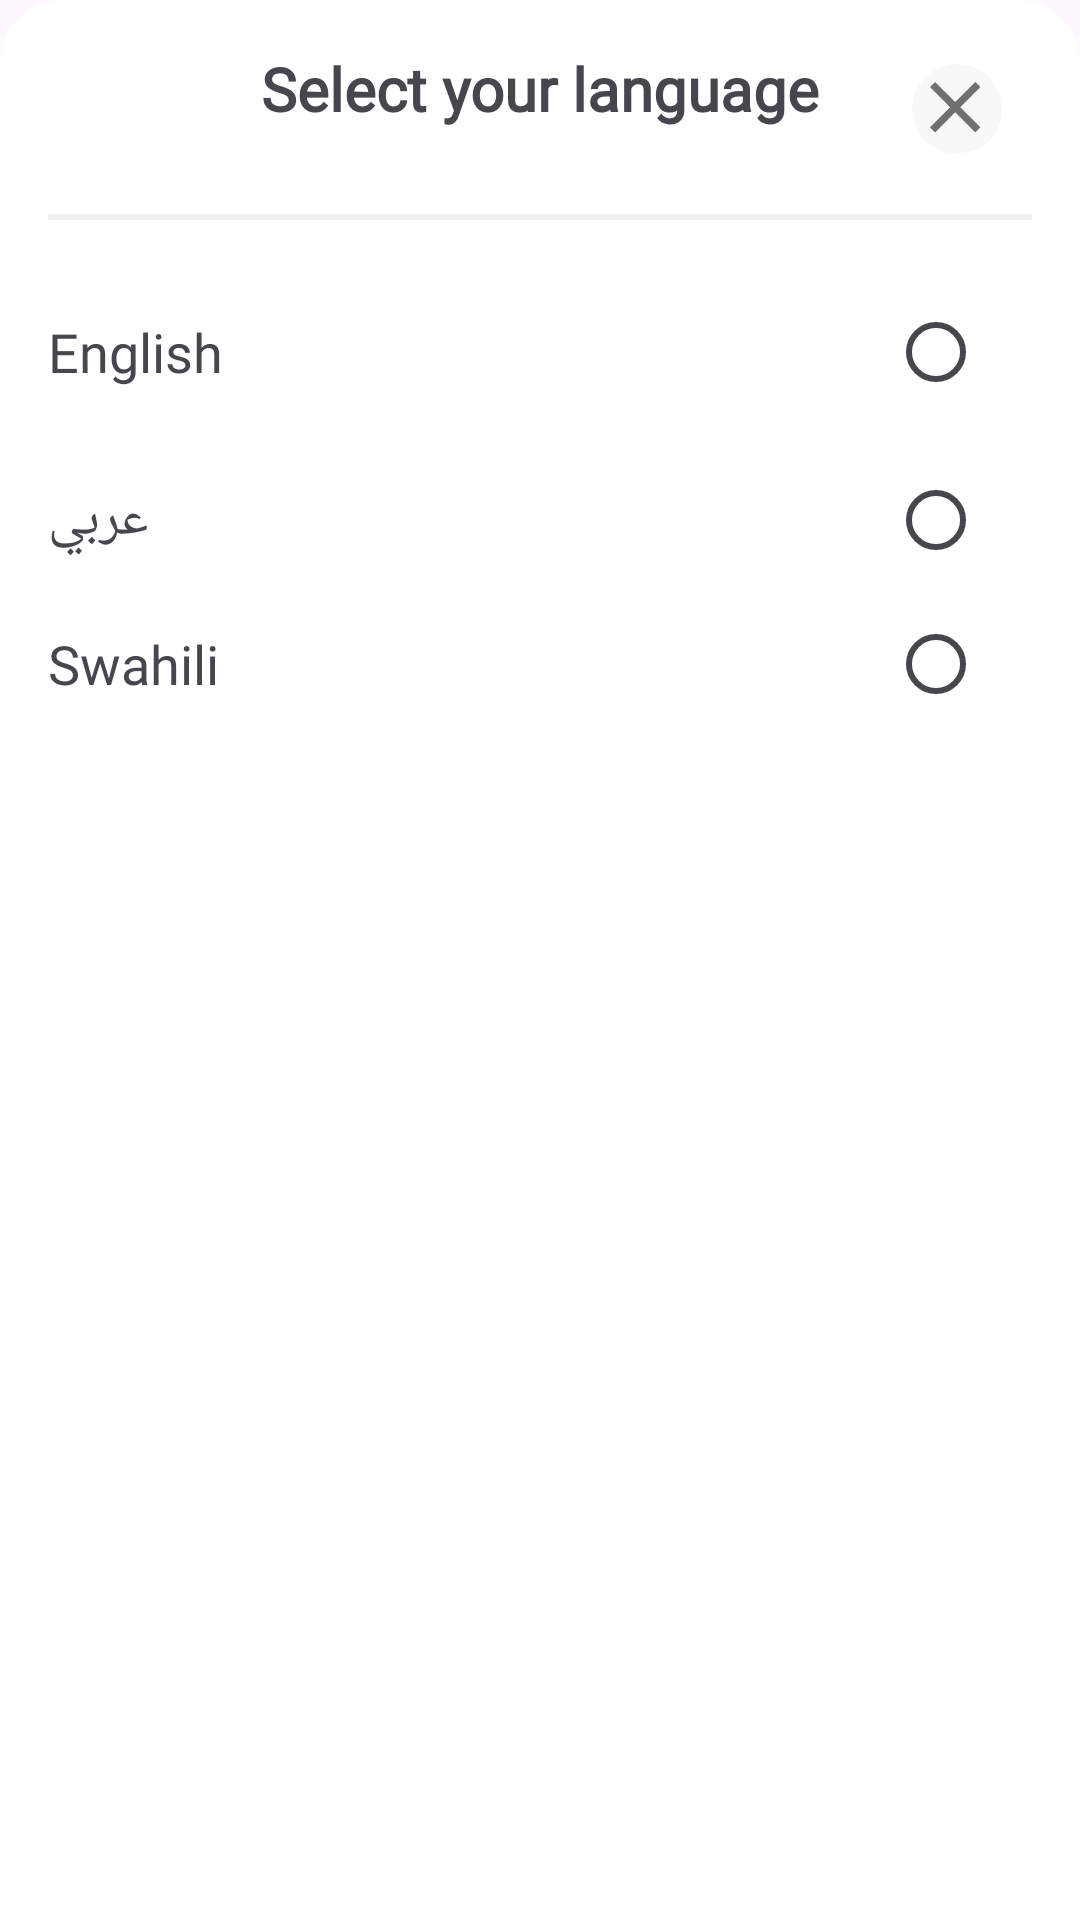

Icon click points for this 1080 × 1920 phone screenshot, format (x=x, y=y):
close: (x=955, y=107)
